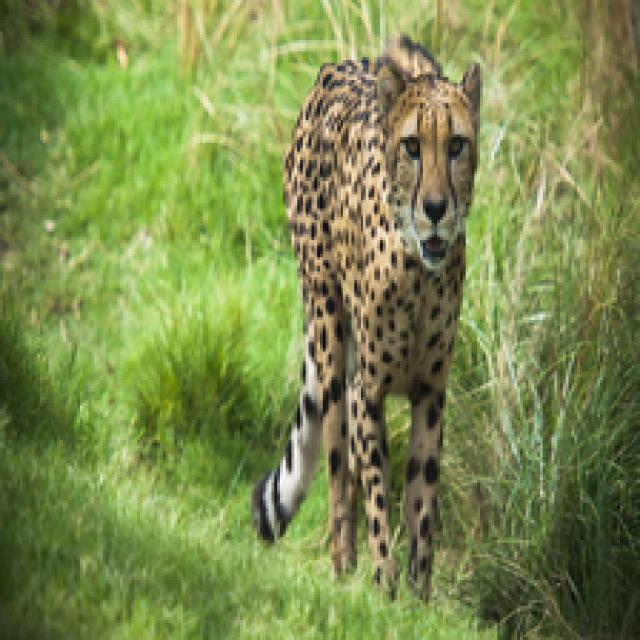cheetah: (231, 29, 484, 576)
